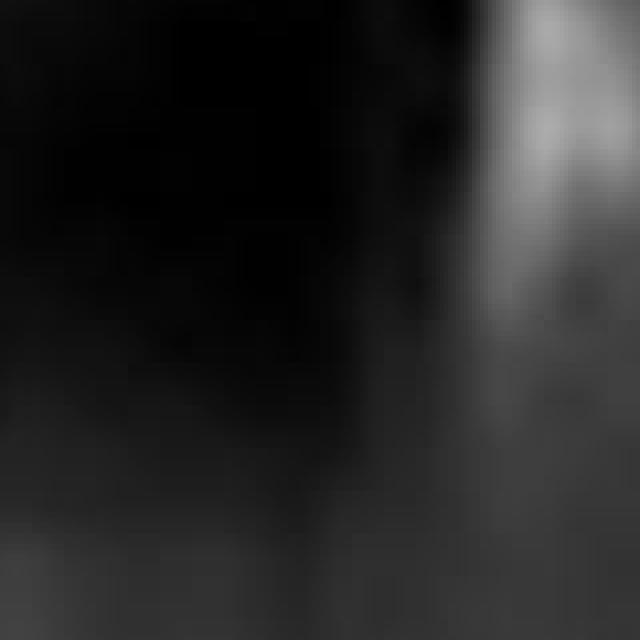person: (461, 1, 640, 348)
